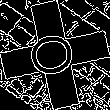O_E: (26, 29, 84, 81)
